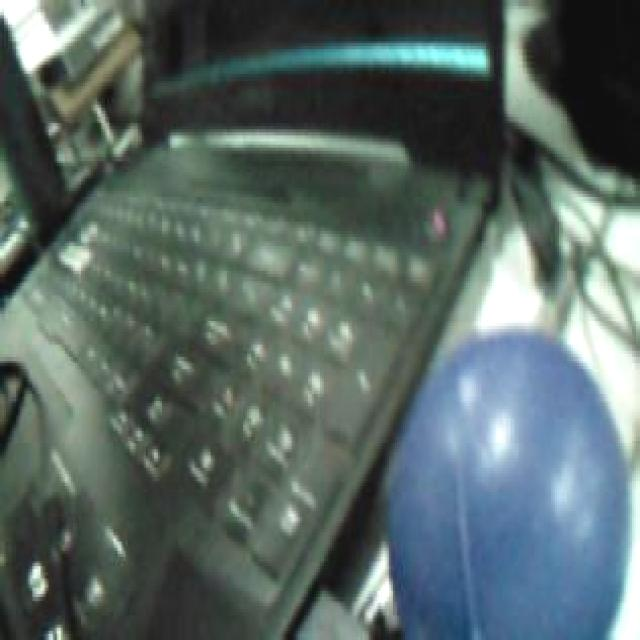BallPurple: (385, 326, 630, 640)
